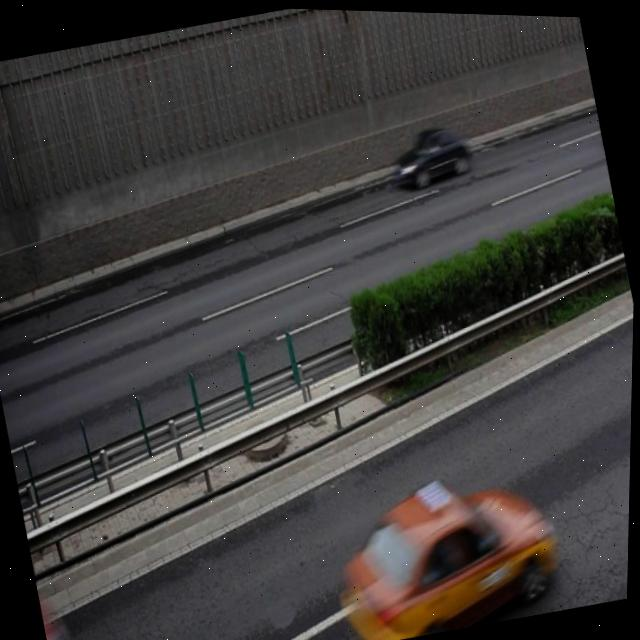car: (323, 455, 567, 640), (384, 115, 475, 192), (37, 577, 78, 640)
